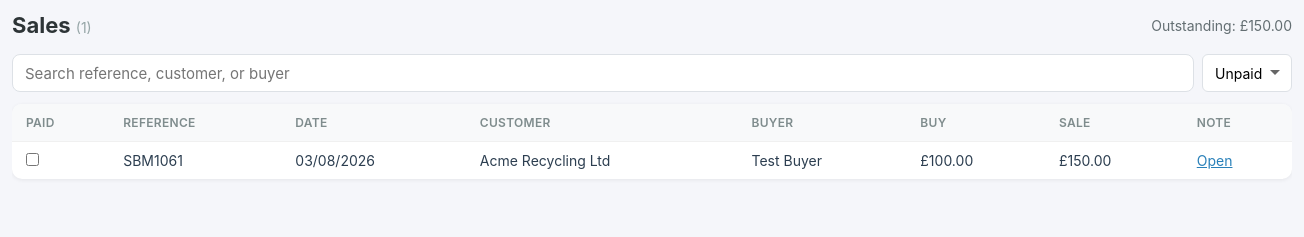
it: the sales page › says so when a tick could not be saved
What coordinates should you click on to do the following:
click the checkbox named "Paid, SBM1061"
I would click on:
 (32, 160)
Its box is [26,153,39,166].
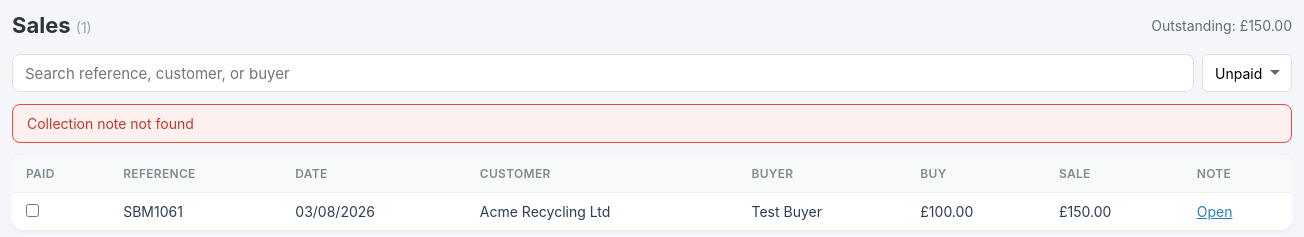
Expected: the text "Collection note not found" is shown, [12,104,1292,143]
